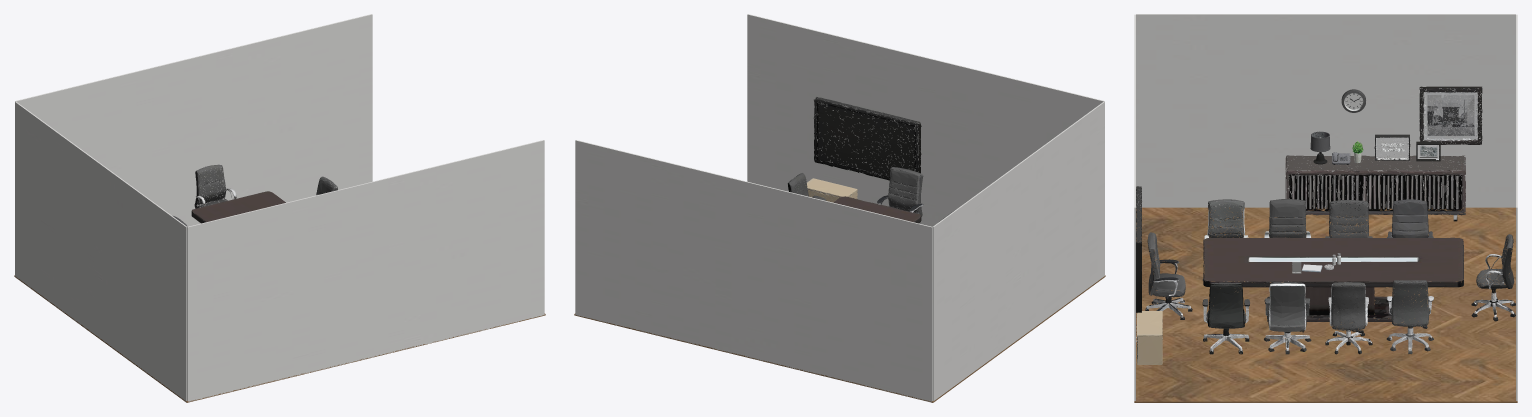
Rendered from image-meetingroom.glb.
The picture shows the model from 3 angles, left to right: view 1: azimuth 30°, elevation 25°; view 2: azimuth 150°, elevation 25°; view 3: azimuth 270°, elevation 25°; orthographic projection. The views are drawn at different scales.
Parts seen in each view (by area): view 1: wall_north_01, wall_south_01, wall_east_01, geometry_0.003, geometry_0.014, floor_01; view 2: wall_south_01, wall_north_01, wall_east_01, geometry_0.002, geometry_0.005, floor_01, geometry_0.003, geometry_0.004; view 3: wall_east_01, floor_01, geometry_0.003, geometry_0.015, geometry_0, geometry_0.010, geometry_0.013, geometry_0.008, geometry_0.012, geometry_0.005, geometry_0.014, geometry_0.009 (+11 smaller).
Part boxes in pixels (x1=…): wall_north_01: x1=187, y1=140, x2=544, y2=402; wall_south_01: x1=15, y1=14, x2=372, y2=226; wall_east_01: x1=15, y1=101, x2=187, y2=401; geometry_0.003: x1=191, y1=191, x2=285, y2=223; geometry_0.014: x1=194, y1=164, x2=236, y2=208; floor_01: x1=14, y1=275, x2=545, y2=402; wall_south_01: x1=575, y1=140, x2=932, y2=401; wall_north_01: x1=747, y1=14, x2=1104, y2=226; wall_east_01: x1=932, y1=101, x2=1104, y2=400; geometry_0.002: x1=813, y1=97, x2=921, y2=184; geometry_0.005: x1=877, y1=167, x2=923, y2=219; floor_01: x1=574, y1=275, x2=1105, y2=402; geometry_0.003: x1=834, y1=196, x2=921, y2=223; geometry_0.004: x1=807, y1=178, x2=857, y2=202; wall_east_01: x1=1136, y1=14, x2=1515, y2=207; floor_01: x1=1134, y1=207, x2=1517, y2=402; geometry_0.003: x1=1203, y1=237, x2=1463, y2=321; geometry_0.015: x1=1285, y1=155, x2=1465, y2=221; geometry_0: x1=1419, y1=86, x2=1482, y2=144; geometry_0.010: x1=1264, y1=282, x2=1311, y2=354; geometry_0.013: x1=1386, y1=280, x2=1433, y2=354; geometry_0.008: x1=1202, y1=282, x2=1249, y2=354; geometry_0.012: x1=1325, y1=282, x2=1372, y2=354; geometry_0.005: x1=1145, y1=232, x2=1192, y2=319; geometry_0.014: x1=1471, y1=234, x2=1515, y2=321; geometry_0.009: x1=1325, y1=200, x2=1372, y2=237.
Bounding box in the file's own units: 6 × 2.81 × 5.
Materials: 30 (30 with a texture image).
